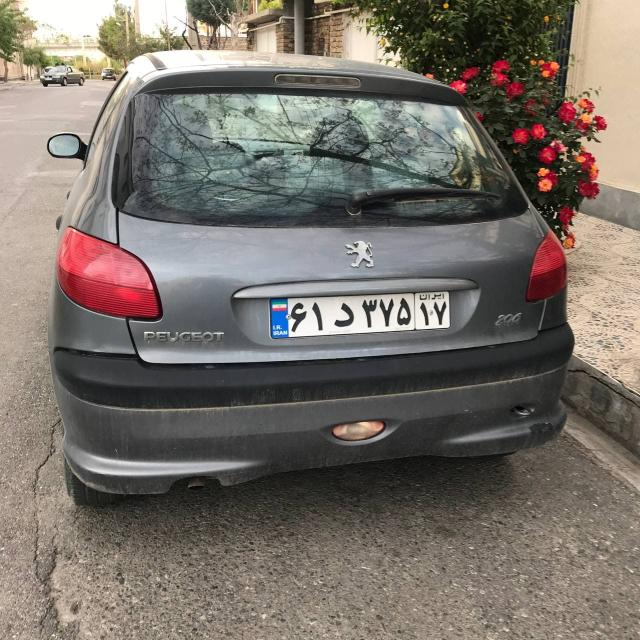Plates: (267, 287, 450, 338)
